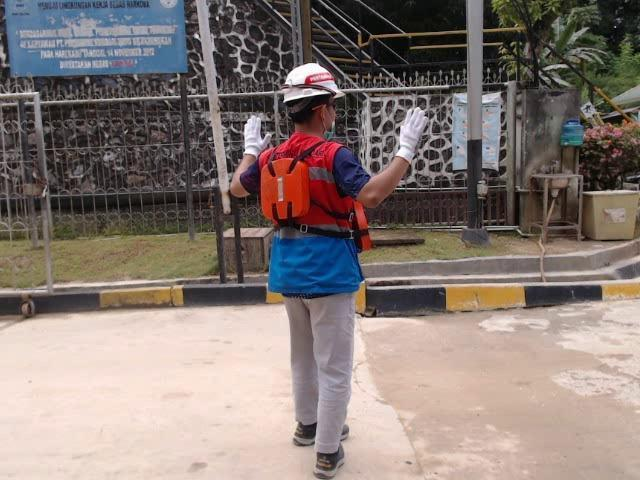0: (394, 104, 431, 165), (243, 109, 275, 163)
Boots: (278, 59, 346, 105)
Glass: (258, 129, 354, 237)
